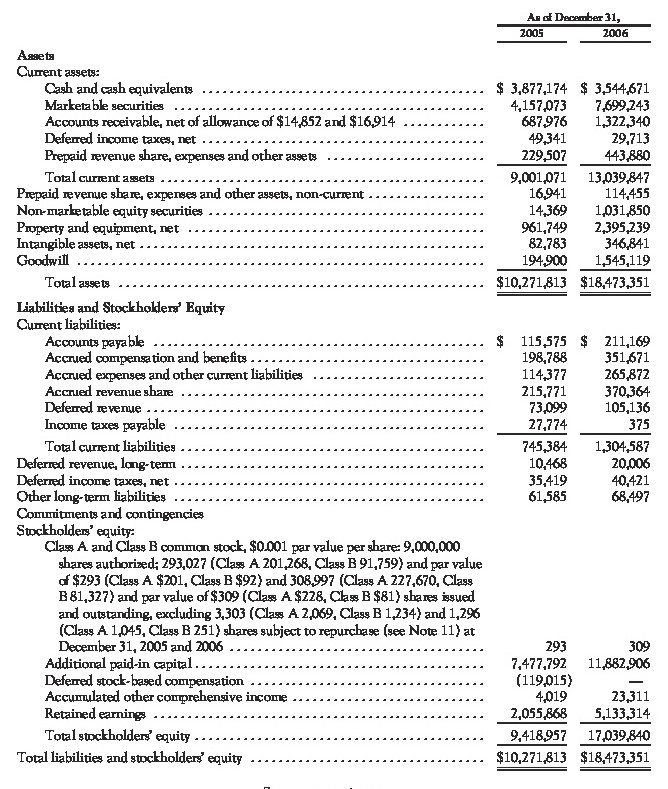table: (0, 0, 668, 789)
